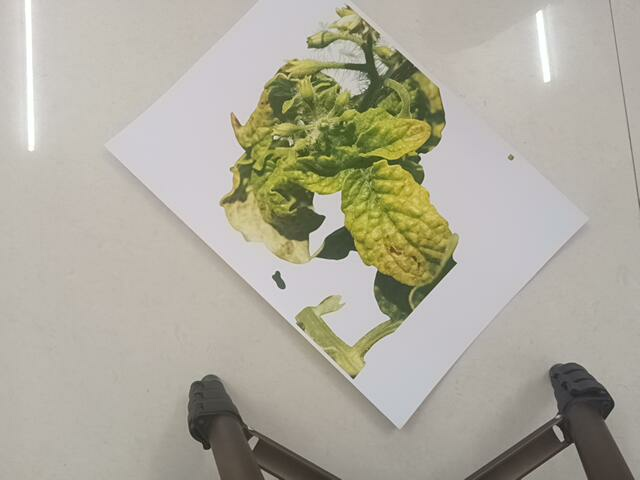Tomamto_Leaf_curl_virus: (217, 6, 488, 370)
